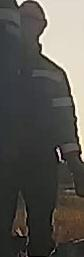gloves: (63, 150, 84, 198)
helmet: (19, 0, 49, 27)
vest: (15, 51, 83, 168)
